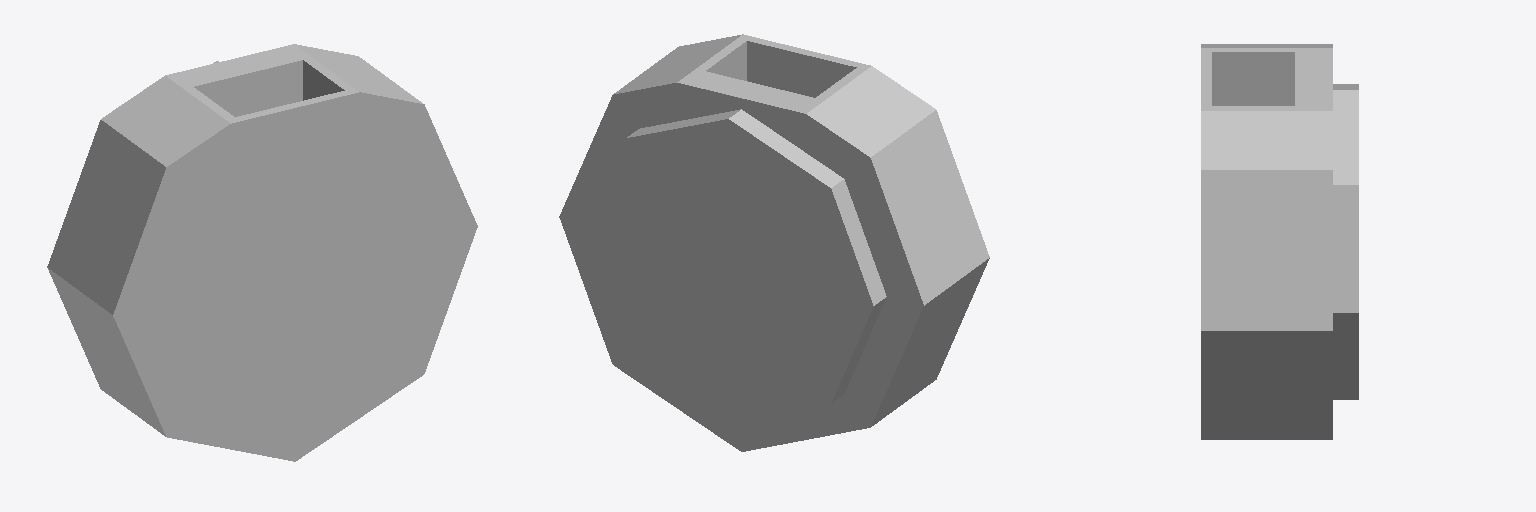
Rendered from VBCI_Turret.obj.
3 views of the same model, side by side, from view 1: azimuth 30°, elevation 25°; view 2: azimuth 150°, elevation 25°; view 3: azimuth 270°, elevation 25° (orthographic).
Visible parts, largest first — view 1: VBCI_Turret_Cylinder.001; view 2: VBCI_Turret_Cylinder.001; view 3: VBCI_Turret_Cylinder.001.
Part boxes in pixels (x1,y1,x2,y2): VBCI_Turret_Cylinder.001: (47,44,477,461); VBCI_Turret_Cylinder.001: (559,34,989,451); VBCI_Turret_Cylinder.001: (1201,44,1358,439).
Size of the model in its own units: 1.6 by 1.48 by 0.6.